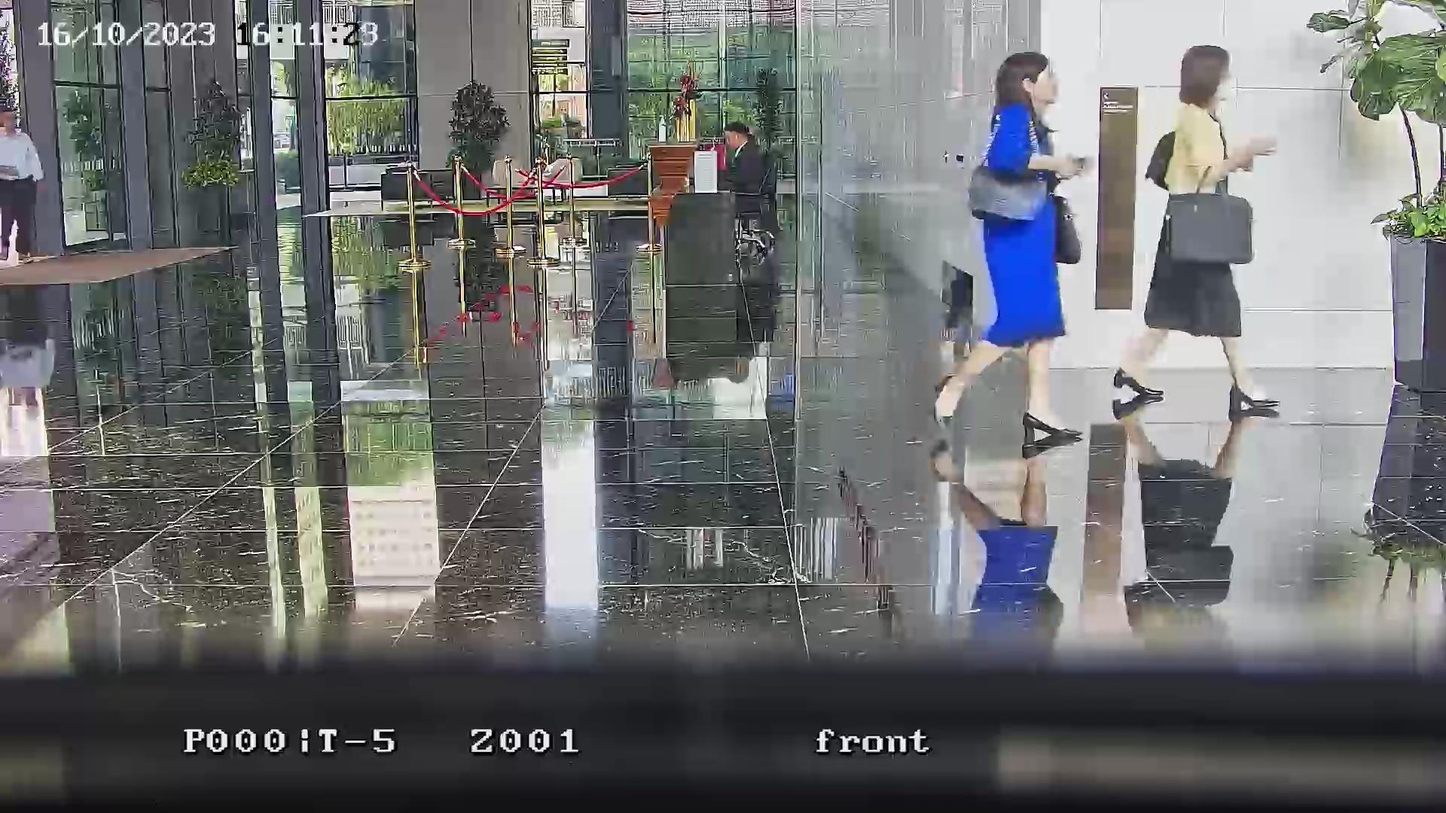person: (1112, 46, 1280, 420), (934, 51, 1087, 458), (0, 107, 44, 264), (715, 116, 764, 192)
